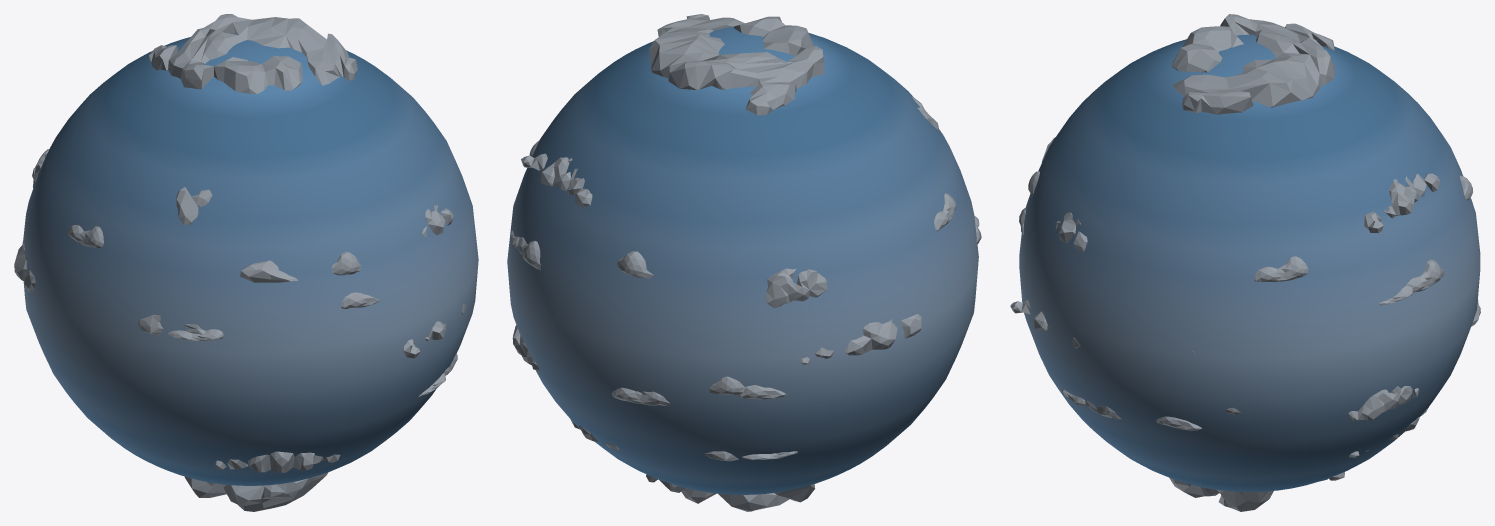
Rendered from sky.glb.
3 views of the same model, side by side, from view 1: azimuth 30°, elevation 25°; view 2: azimuth 150°, elevation 25°; view 3: azimuth 270°, elevation 25° (orthographic). The views are drawn at different scales.
Visible parts, largest first — view 1: hoth_sky, cloud18, clouds2, cloud17; view 2: hoth_sky, cloud18, clouds2, cloud17; view 3: hoth_sky, cloud18, clouds2, cloud17.
Boxes of the visible parts, x1,y1,x2,y2 form: hoth_sky: (22, 32, 478, 485); cloud18: (149, 14, 357, 93); clouds2: (14, 149, 466, 472); cloud17: (184, 472, 327, 511); hoth_sky: (507, 26, 978, 494); cloud18: (649, 14, 824, 115); clouds2: (510, 97, 981, 461); cloud17: (646, 474, 815, 511); hoth_sky: (1019, 34, 1480, 491); cloud18: (1171, 14, 1335, 114); clouds2: (1010, 137, 1480, 457); cloud17: (1169, 472, 1344, 511).
Size of the model in its own units: 535 by 577 by 544.
